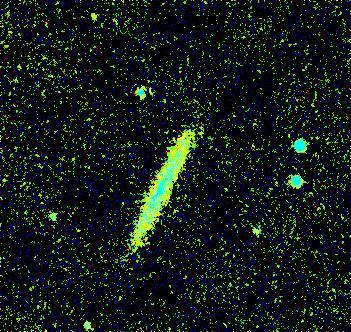star: (66, 213, 96, 243)
